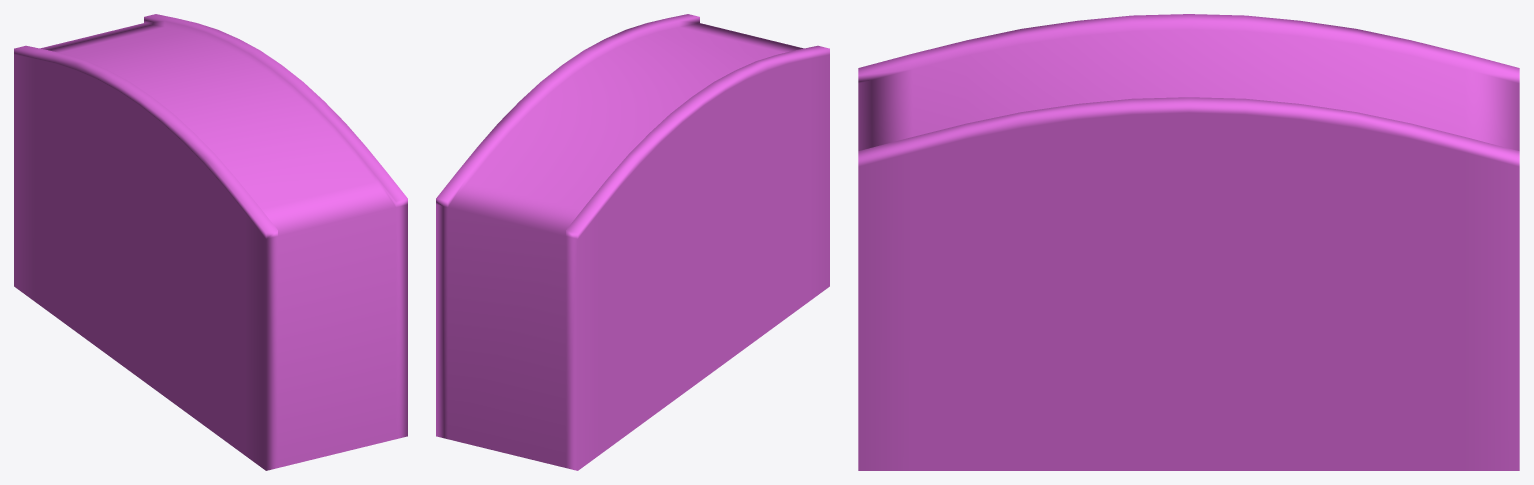
Rendered from RD_Hump_Tall1_Mid1.fbx.
3 renders of one model, left to right at view 1: azimuth 30°, elevation 25°; view 2: azimuth 150°, elevation 25°; view 3: azimuth 270°, elevation 25°, orthographic. The views are drawn at different scales.
Visible parts, largest first — view 1: Mesh; view 2: Mesh; view 3: Mesh.
Part boxes in pixels (box(x1,y1,x2,y2)): Mesh: box(14, 14, 407, 470); Mesh: box(436, 14, 829, 470); Mesh: box(858, 14, 1519, 470).
Size of the model in its own units: 480 by 903 by 1478.
